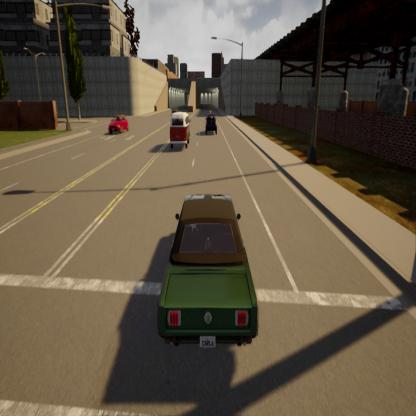Cars: (159, 194, 259, 354), (169, 115, 190, 149), (108, 115, 130, 135), (204, 113, 218, 136)
